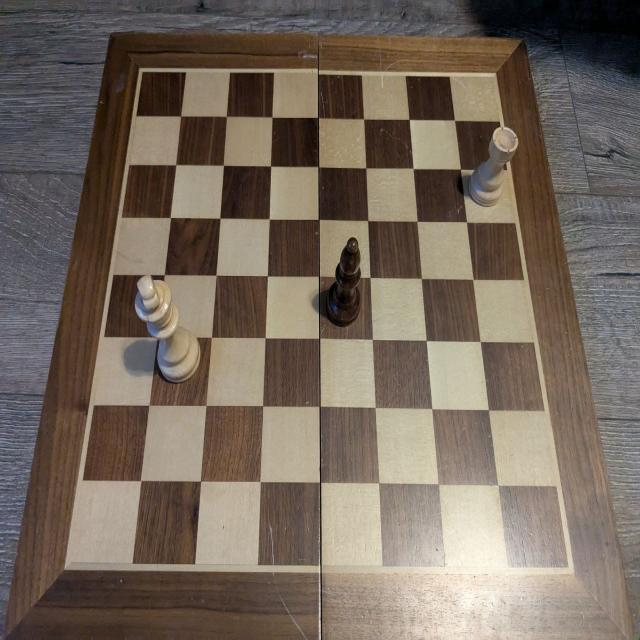black_bishop: (325, 235, 363, 329)
white_king: (132, 272, 202, 382)
white_rook: (469, 124, 519, 207)
